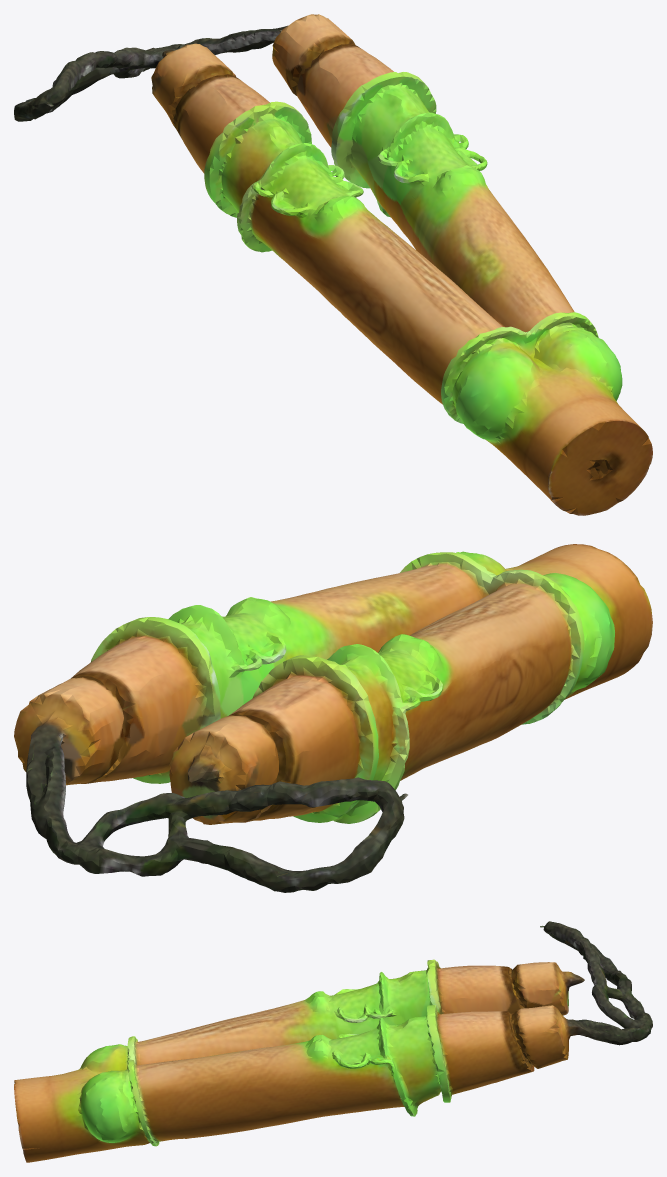
Rendered from nunchaku.glb.
3 renders of one model, top to bottom at view 1: azimuth 30°, elevation 25°; view 2: azimuth 150°, elevation 25°; view 3: azimuth 270°, elevation 25°, orthographic. The views are drawn at different scales.
Parts seen in each view (by area): view 1: nunchaku; view 2: nunchaku; view 3: nunchaku.
Boxes of the visible parts, bbox=[...] form: nunchaku: bbox=[14, 14, 652, 515]; nunchaku: bbox=[14, 544, 652, 892]; nunchaku: bbox=[14, 921, 652, 1162].
Bounding box in the file's own units: 0.8389 × 0.5627 × 1.89.
1 material, 1 textured.
